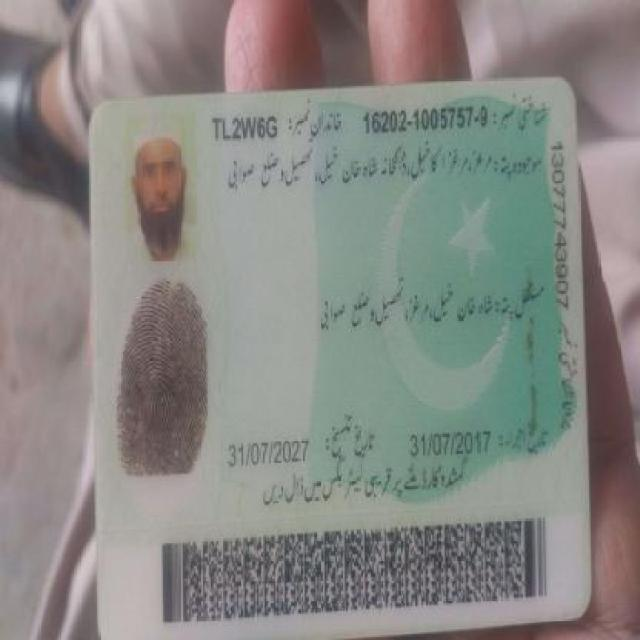Back: (72, 86, 597, 623)
